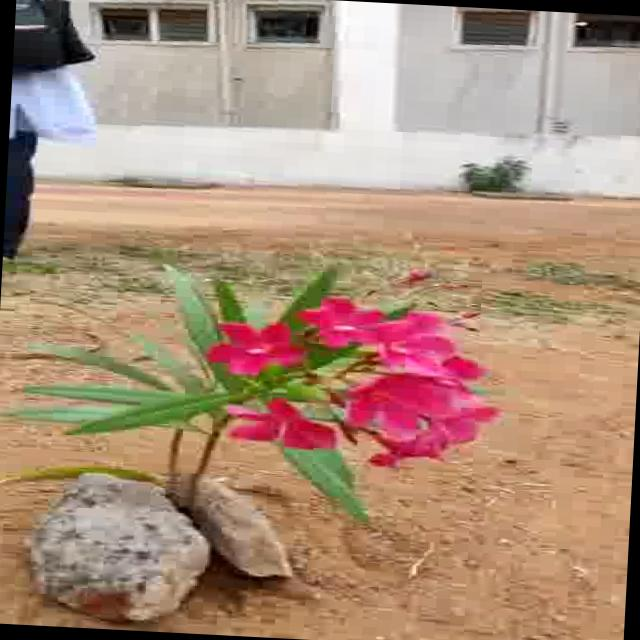Oleander: (44, 254, 540, 508)
